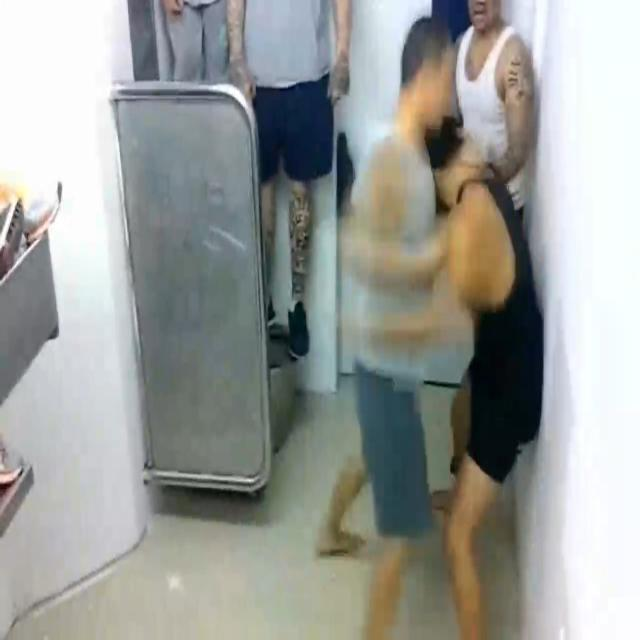fight: (342, 10, 549, 640)
